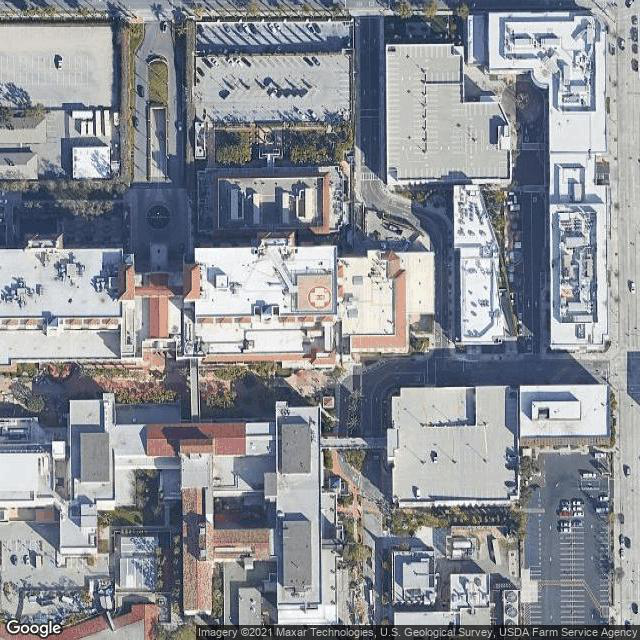Helipad: (307, 282, 333, 310)
